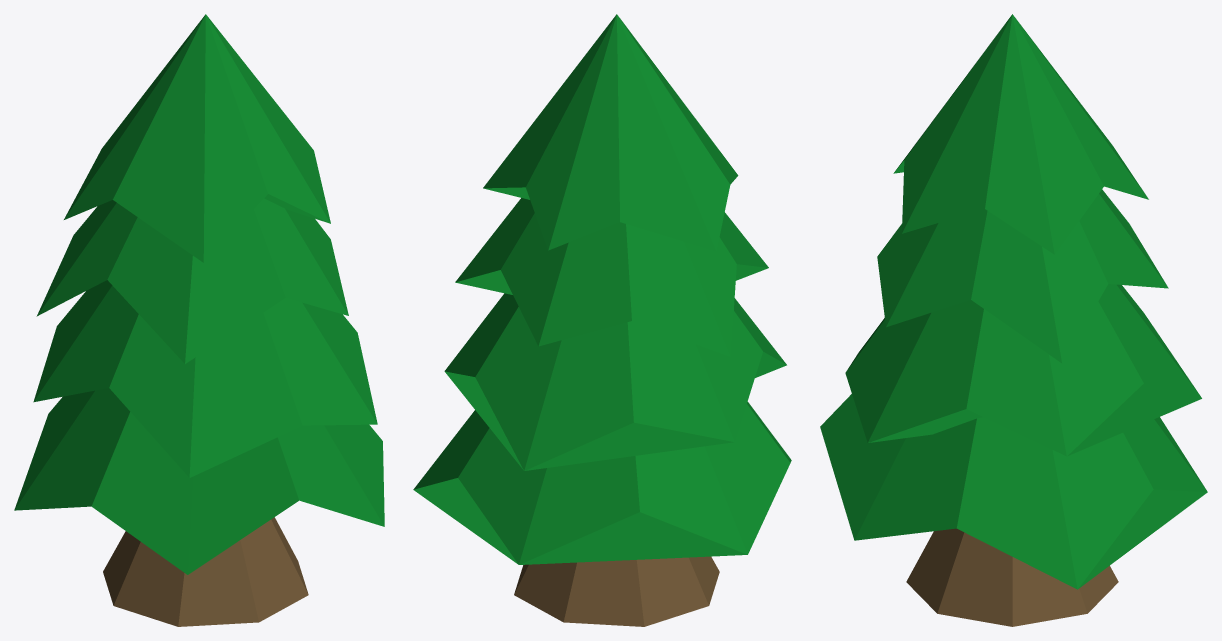
File: PineTree_5.fbx
3 views of the same model, side by side, from view 1: azimuth 30°, elevation 25°; view 2: azimuth 150°, elevation 25°; view 3: azimuth 270°, elevation 25° (orthographic).
Visible parts, largest first — view 1: Cone.002, Cone.001, Cone, Cone.003, Cylinder; view 2: Cone.001, Cone.002, Cone, Cone.003, Cylinder; view 3: Cone.001, Cone.002, Cone, Cone.003, Cylinder.
Part boxes in pixels (<box>): Cone.002: <box>33,280,377,477</box>; Cone.001: <box>14,388,384,574</box>; Cone: <box>64,14,330,262</box>; Cone.003: <box>36,198,348,363</box>; Cylinder: <box>103,517,308,626</box>; Cone.001: <box>413,401,791,564</box>; Cone.002: <box>444,293,786,470</box>; Cone: <box>483,14,738,251</box>; Cone.003: <box>455,198,768,356</box>; Cylinder: <box>514,556,719,626</box>; Cone.001: <box>820,394,1207,589</box>; Cone.002: <box>845,284,1201,456</box>; Cone: <box>893,14,1148,254</box>; Cone.003: <box>877,189,1168,363</box>; Cylinder: <box>906,528,1118,626</box>.
Bounding box in the file's own units: 196 × 321 × 198.
